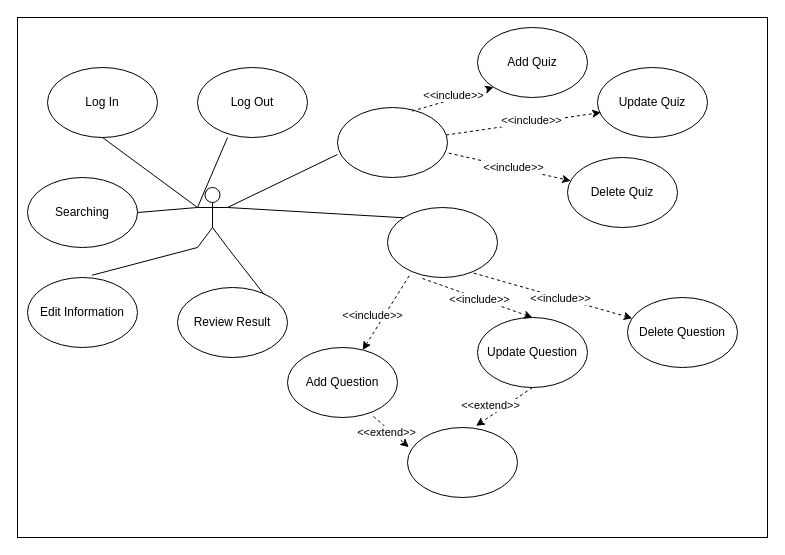
Image size: 785x555. Some labels were removed from this diagram. The shapes that lost their labels are listed below. From the top down, each one's centre as x and y in pixels, then its label:
the point at 392,142: Manage Quiz
the point at 212,217: Teacher
the point at 442,242: Manage Question
the point at 462,462: Choose Type Question
